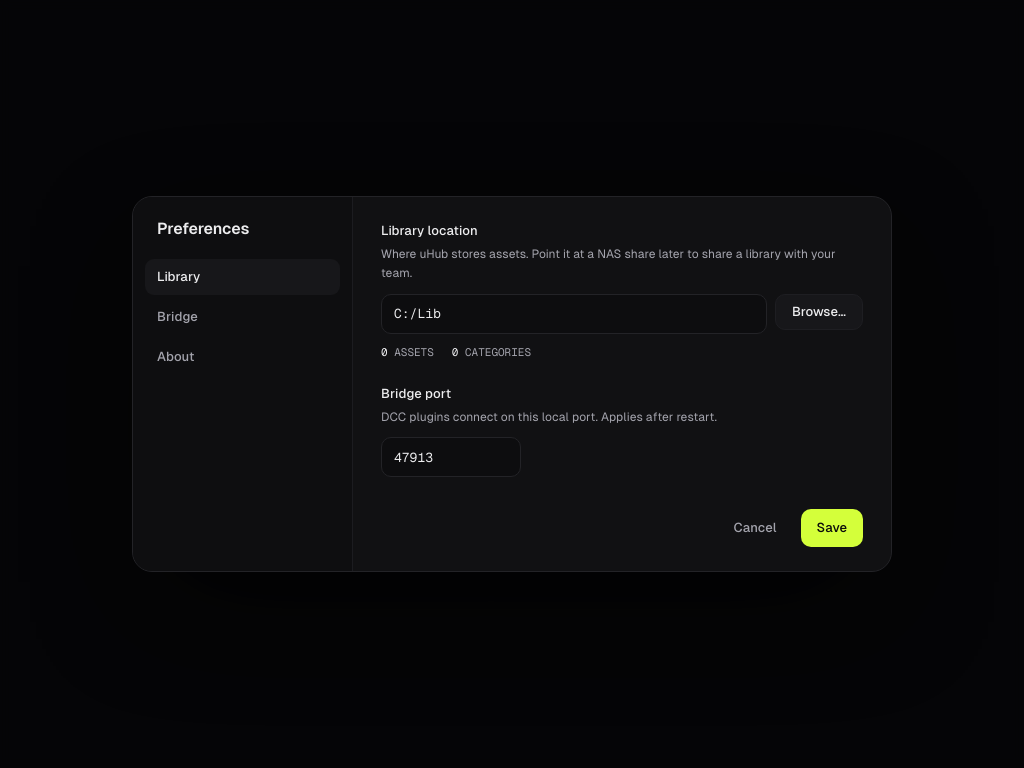
Test: preferences shows cli path with copy
This screenshot has width=1024, height=768.
Expected: the field named "Library Root" is shown, [381, 294, 767, 334]
Click the button "About": point(242, 357) [145, 339, 340, 375]
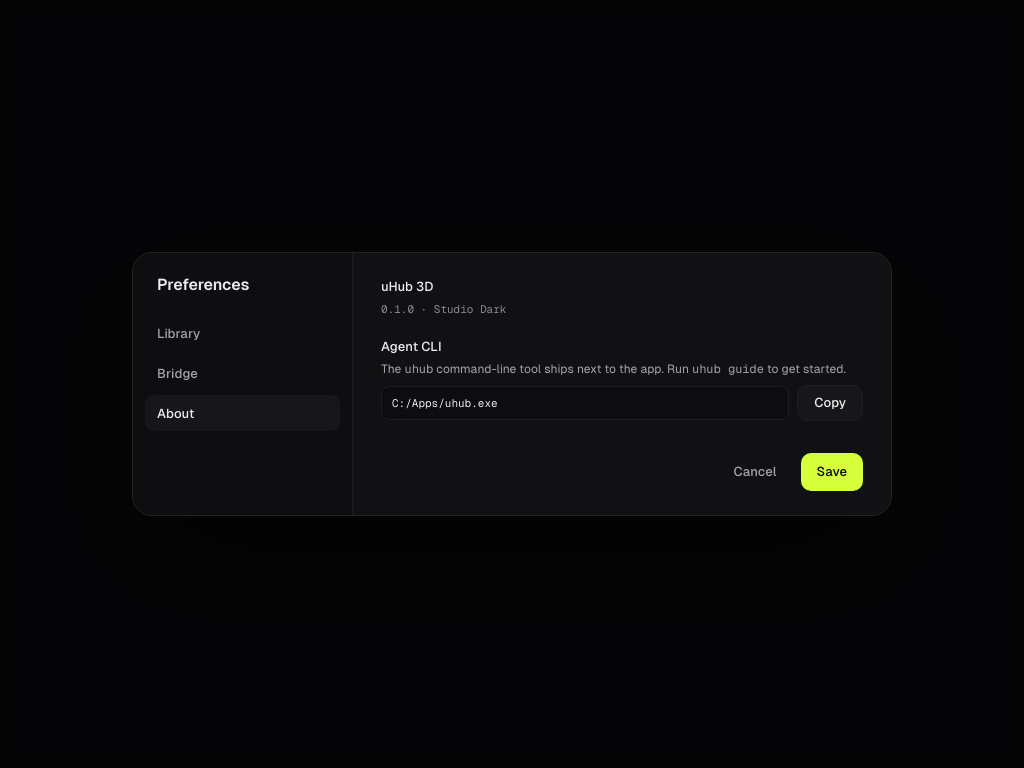
Expected: the text "C:/Apps/uhub.exe" is shown, [381, 386, 789, 420]
Click the button "Copy": point(830, 403) [797, 385, 863, 421]
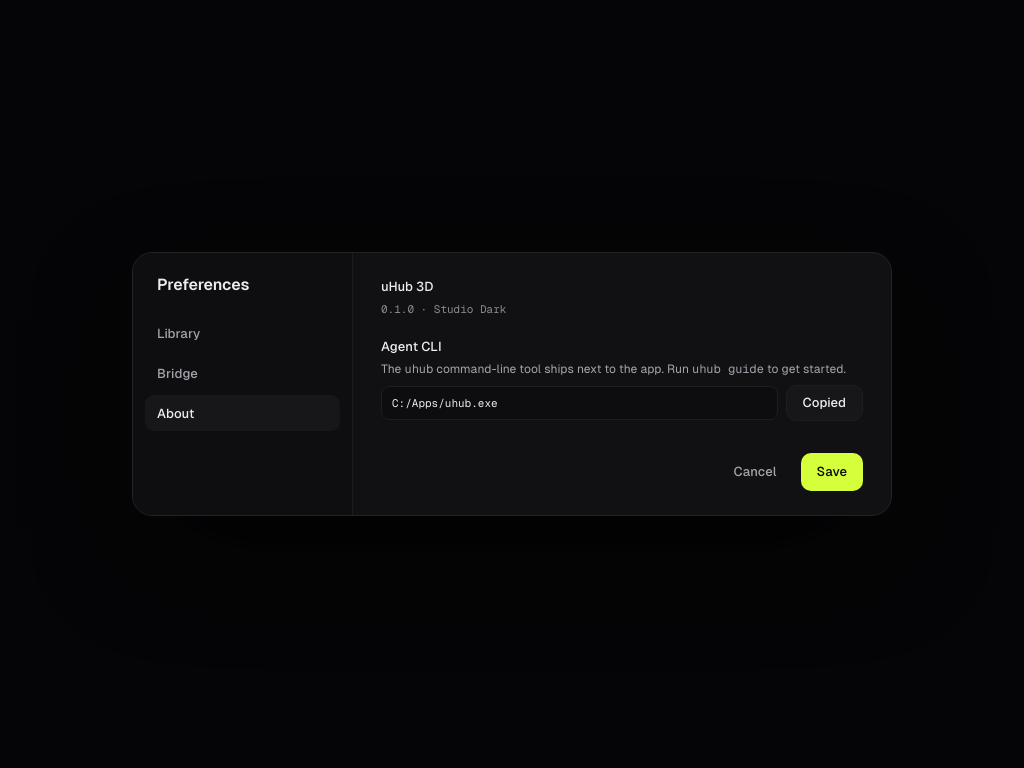
Expected: the button "Copied" is shown, [786, 385, 863, 421]
